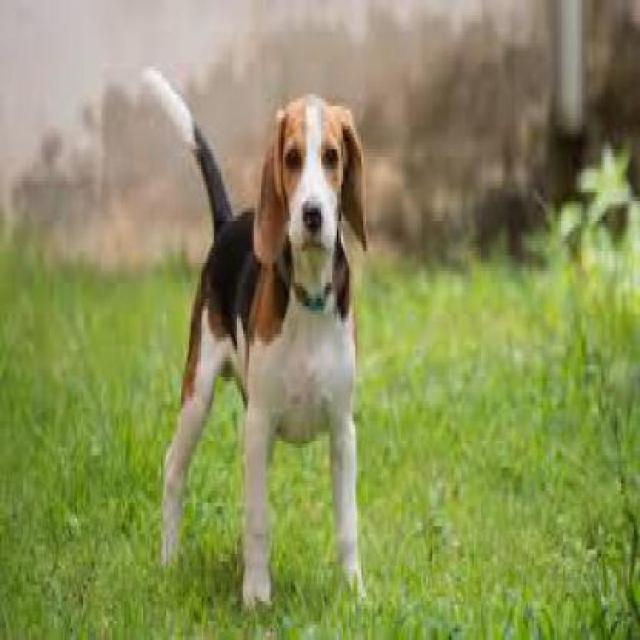Dog: (140, 49, 371, 623)
